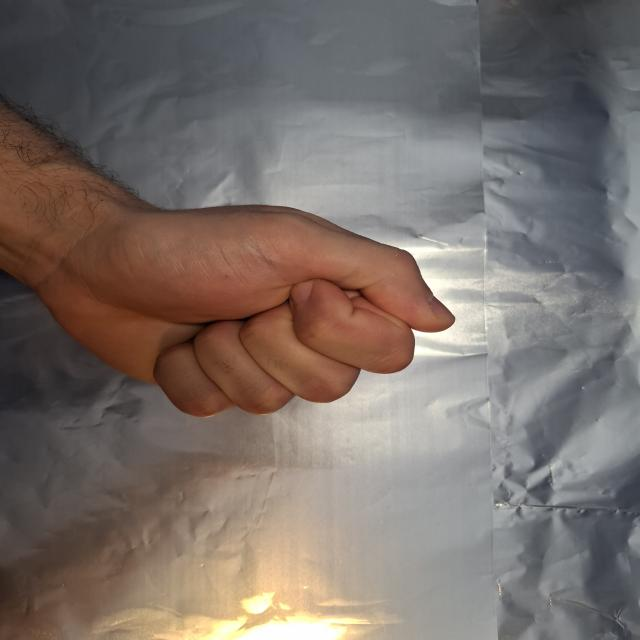glove_off: (29, 167, 458, 419)
